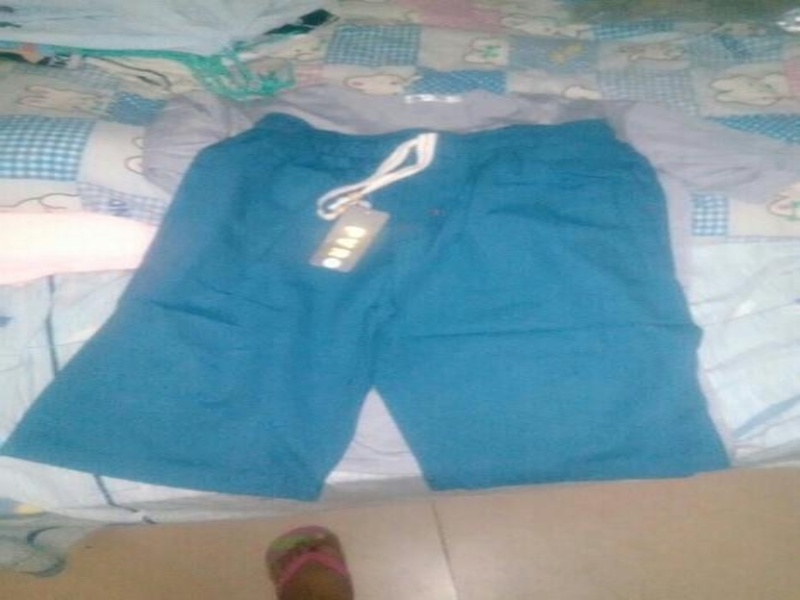shorts: (0, 111, 740, 505)
